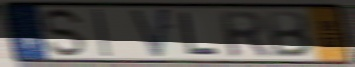B: (265, 10, 315, 59)
I: (91, 8, 113, 59)
L: (177, 10, 222, 56)
R: (216, 10, 273, 59)
S: (40, 7, 89, 59)
V: (128, 6, 172, 61)
